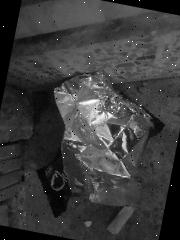general: (35, 62, 164, 212), (28, 154, 78, 220)
